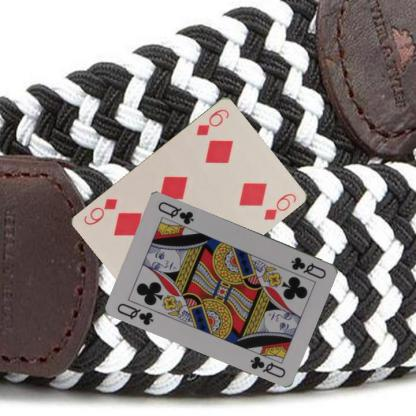6d: (193, 106, 230, 137)
Qc: (288, 254, 328, 280), (115, 300, 155, 326)
